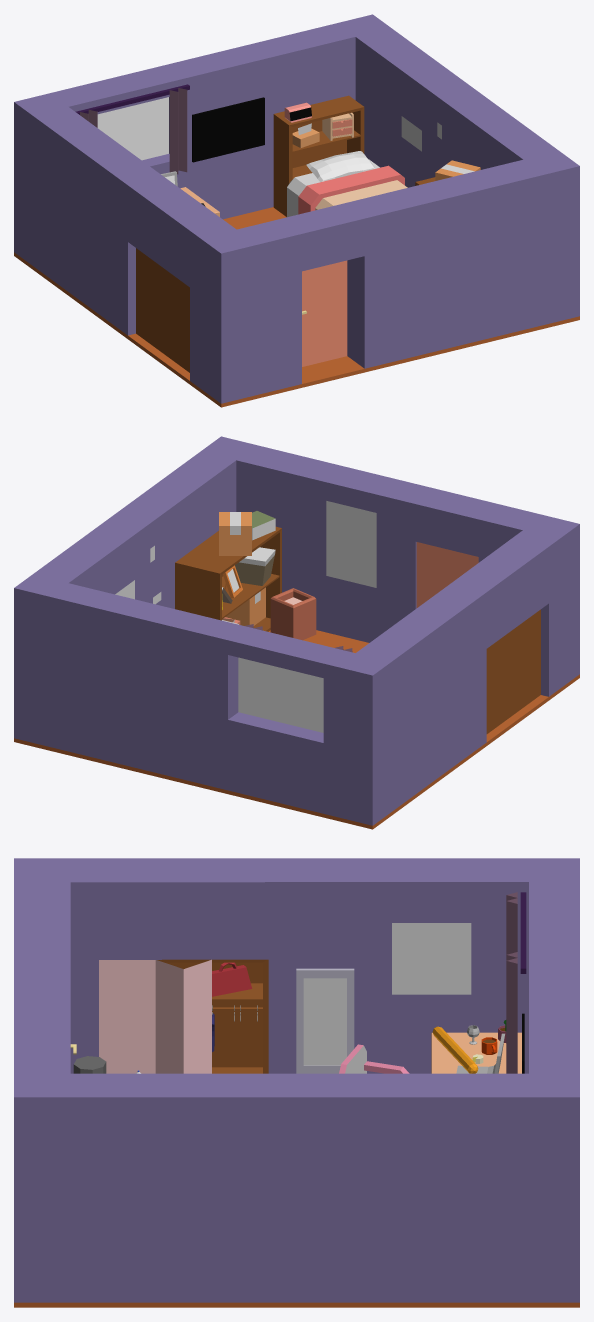
File: dontmaskthelens_scene.fbx
3 views of the same model, one above another, from view 1: azimuth 30°, elevation 25°; view 2: azimuth 150°, elevation 25°; view 3: azimuth 270°, elevation 25° (orthographic). The views are drawn at different scales.
Visible parts, largest first — view 1: Walls, Wardrobe_2, Wardrobe_1, Floor, Door, Tv, Bed, Curtain, Pillow_couch, Shelf, Carboard; view 2: Walls, Wardrobe, Wardrobe_1, Poster, Floor, Door, Laundry_basket, Carboard, Box_1, Cardboard_1, Big_book; view 3: Walls, Closet, Mirror, Wardrobe_1, Poster_1, Floor, Curtain, Table, Bag, Chair, Baguette.
Boxes of the visible parts, x1=… form: Walls: x1=14, y1=14, x2=579, y2=403; Wardrobe_2: x1=273, y1=95, x2=364, y2=216; Wardrobe_1: x1=136, y1=248, x2=189, y2=372; Floor: x1=14, y1=207, x2=579, y2=407; Door: x1=302, y1=260, x2=347, y2=366; Tv: x1=192, y1=97, x2=264, y2=162; Bed: x1=287, y1=159, x2=407, y2=217; Curtain: x1=75, y1=84, x2=189, y2=174; Pillow_couch: x1=306, y1=151, x2=375, y2=182; Shelf: x1=322, y1=112, x2=353, y2=140; Carboard: x1=435, y1=160, x2=480, y2=180; Walls: x1=14, y1=436, x2=579, y2=825; Wardrobe: x1=175, y1=526, x2=281, y2=631; Wardrobe_1: x1=486, y1=609, x2=540, y2=733; Poster: x1=326, y1=501, x2=376, y2=587; Floor: x1=14, y1=630, x2=579, y2=829; Door: x1=416, y1=542, x2=478, y2=607; Laundry_basket: x1=270, y1=588, x2=316, y2=640; Carboard: x1=219, y1=512, x2=251, y2=555; Box_1: x1=235, y1=547, x2=275, y2=585; Cardboard_1: x1=225, y1=587, x2=265, y2=625; Big_book: x1=252, y1=511, x2=275, y2=540; Walls: x1=14, y1=858, x2=579, y2=1302; Closet: x1=99, y1=959, x2=211, y2=1073; Mirror: x1=296, y1=968, x2=354, y2=1073; Wardrobe_1: x1=157, y1=959, x2=268, y2=1073; Poster_1: x1=392, y1=923, x2=471, y2=994; Floor: x1=14, y1=1302, x2=579, y2=1307; Curtain: x1=506, y1=892, x2=526, y2=1073; Table: x1=431, y1=1032, x2=521, y2=1073; Bag: x1=212, y1=962, x2=252, y2=996; Chair: x1=339, y1=1044, x2=409, y2=1073; Baguette: x1=432, y1=1026, x2=478, y2=1073.
Size of the model in its own units: 1000 by 410 by 1000.
